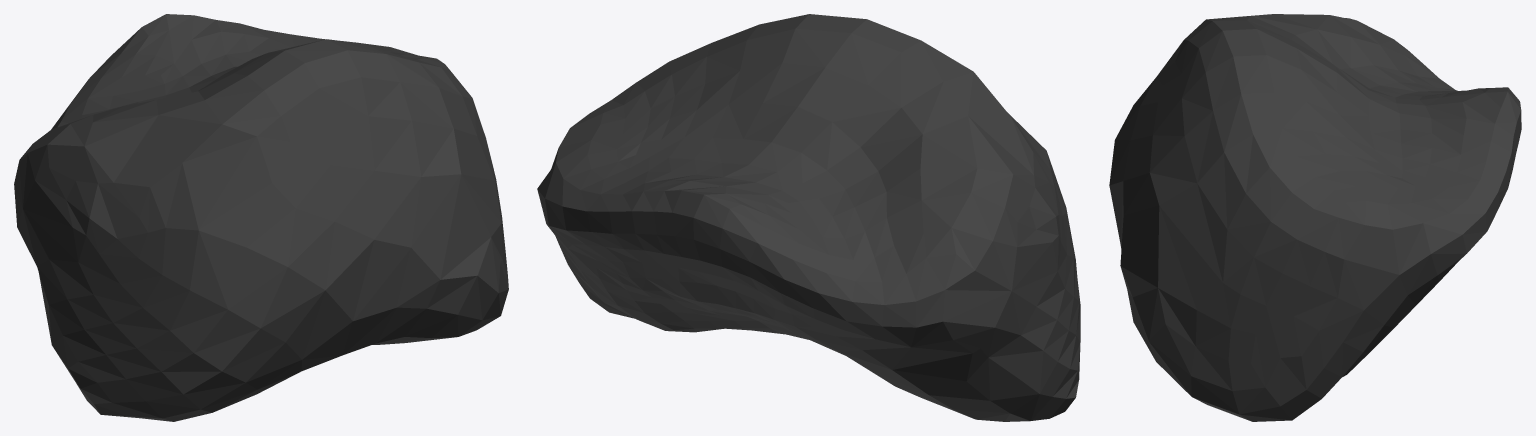
Rendered from LFL_P2.glb.
3 renders of one model, left to right at view 1: azimuth 30°, elevation 25°; view 2: azimuth 150°, elevation 25°; view 3: azimuth 270°, elevation 25°, orthographic. The views are drawn at different scales.
Visible parts, largest first — view 1: LFL_P2; view 2: LFL_P2; view 3: LFL_P2.
Boxes of the visible parts, x1,y1,x2,y2 form: LFL_P2: (14, 14, 508, 421); LFL_P2: (537, 14, 1080, 421); LFL_P2: (1109, 14, 1521, 421).
Bounding box in the file's own units: 11.36 × 7.99 × 9.56.
Materials: 1 (1 with a texture image).
